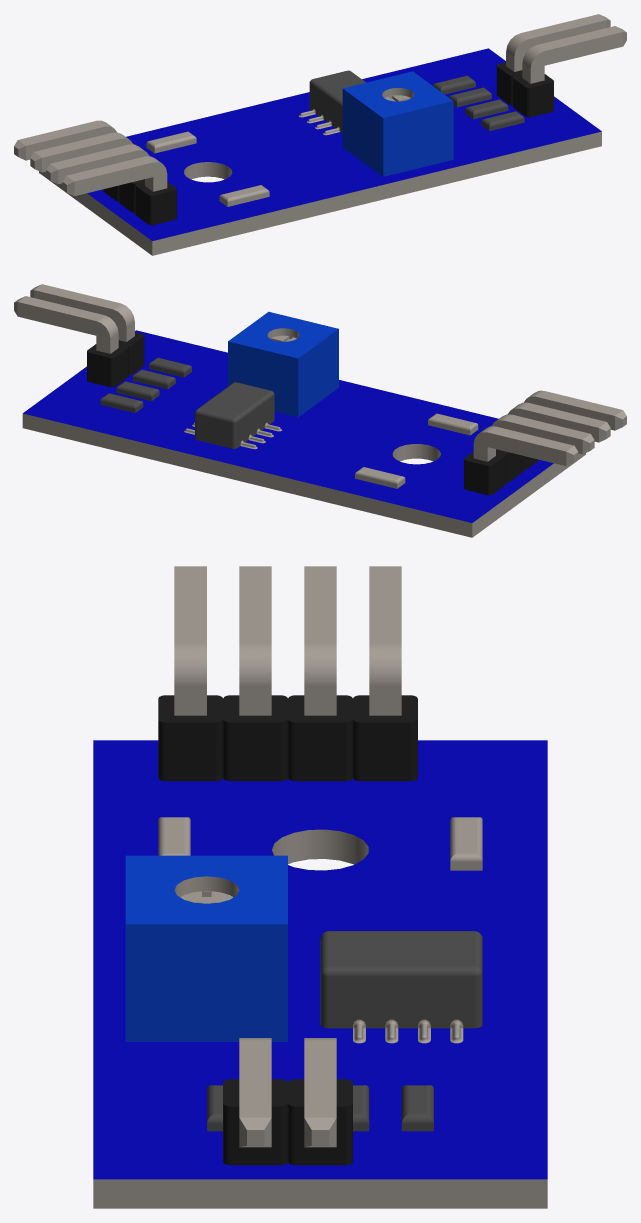
Rendered from soil sensor.obj.
The picture shows the model from 3 angles, top to bottom: view 1: azimuth 30°, elevation 25°; view 2: azimuth 150°, elevation 25°; view 3: azimuth 270°, elevation 25°; orthographic projection. The views are drawn at different scales.
Parts seen in each view (by area): view 1: Solid1; view 2: Solid1; view 3: Solid1.
Boxes of the visible parts, x1=… form: Solid1: x1=14, y1=14, x2=626, y2=255; Solid1: x1=14, y1=284, x2=626, y2=537; Solid1: x1=93, y1=566, x2=547, y2=1208.
Size of the model in its own units: 41 by 5 by 14.
